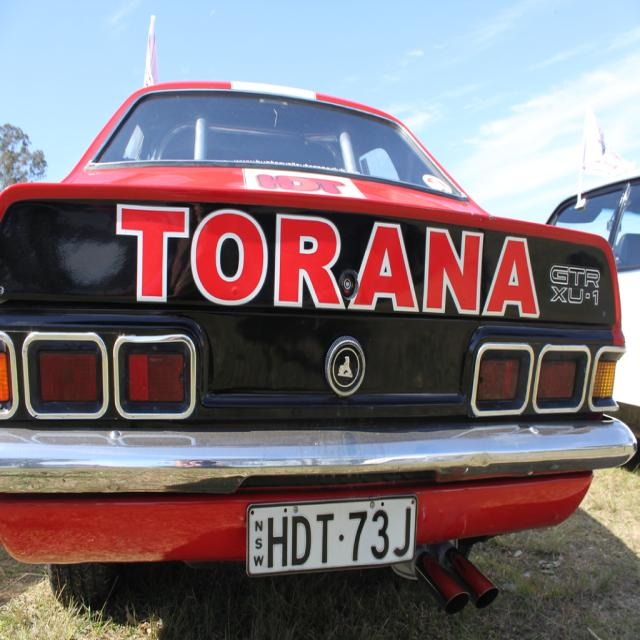car: (16, 50, 628, 600)
